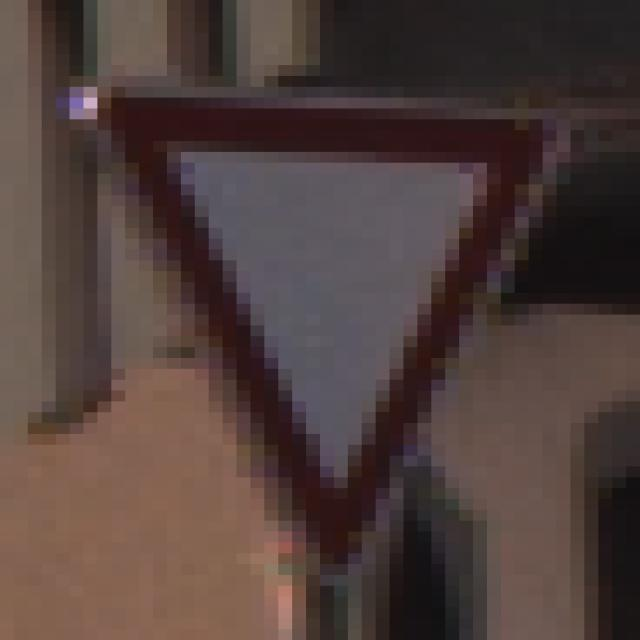Give Way: (71, 55, 572, 587)
